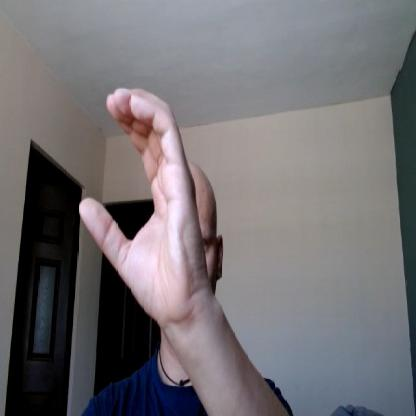C: (78, 86, 206, 322)
